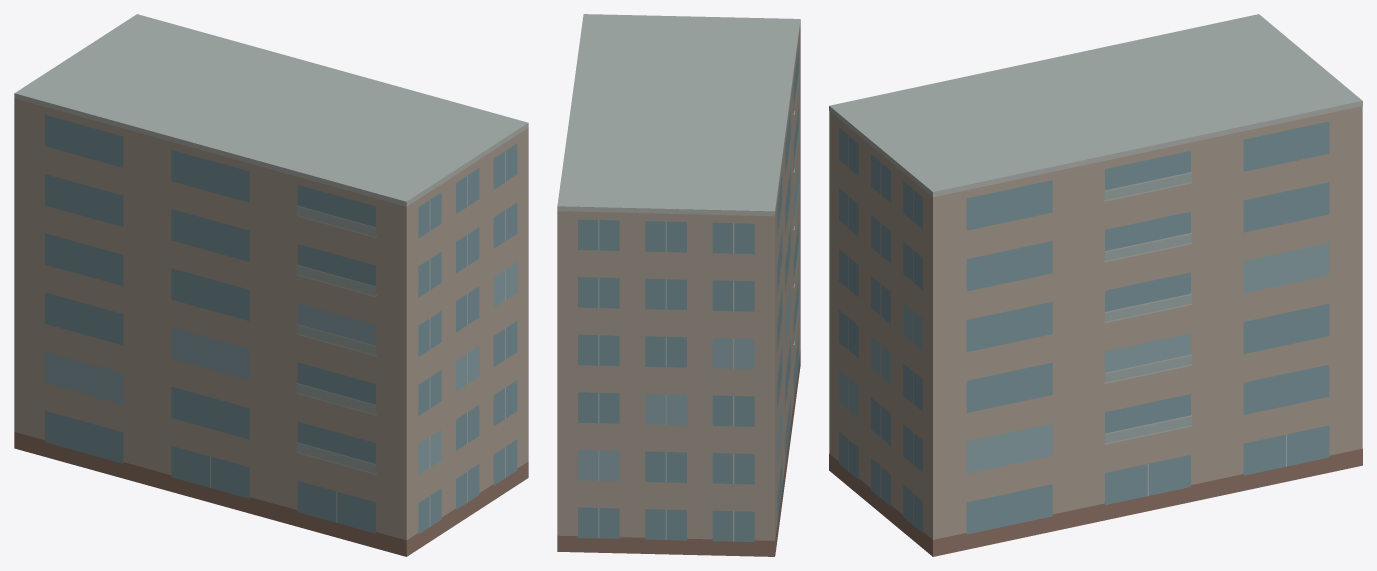
Rendered from survey-upis-32835551.glb.
3 renders of one model, left to right at view 1: azimuth 30°, elevation 25°; view 2: azimuth 150°, elevation 25°; view 3: azimuth 270°, elevation 25°, orthographic. The views are drawn at different scales.
Parts seen in each view (by area): view 1: survey-upis-32835551.tmp; view 2: survey-upis-32835551.tmp; view 3: survey-upis-32835551.tmp.
Part boxes in pixels (<box>): survey-upis-32835551.tmp: <box>14,14,528,556</box>; survey-upis-32835551.tmp: <box>557,14,800,556</box>; survey-upis-32835551.tmp: <box>829,14,1362,556</box>.
Bounding box in the file's own units: 18.08 × 17.25 × 22.88.
